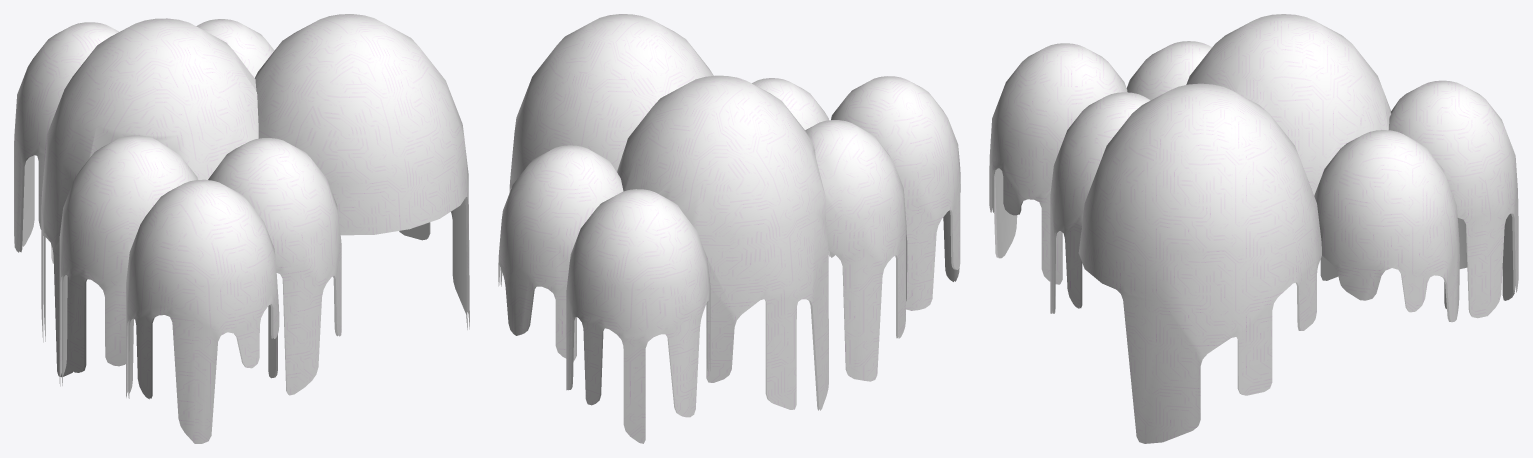
File: Dome04_Art.fbx
3 views of the same model, side by side, from view 1: azimuth 30°, elevation 25°; view 2: azimuth 150°, elevation 25°; view 3: azimuth 270°, elevation 25° (orthographic). The views are drawn at different scales.
Parts seen in each view (by area): view 1: Dome04_Art; view 2: Dome04_Art; view 3: Dome04_Art.
Part boxes in pixels (x1=…): Dome04_Art: x1=14, y1=14, x2=469, y2=443; Dome04_Art: x1=498, y1=14, x2=960, y2=443; Dome04_Art: x1=989, y1=14, x2=1518, y2=443.
Size of the model in its own units: 37.09 by 29.3 by 43.68.
